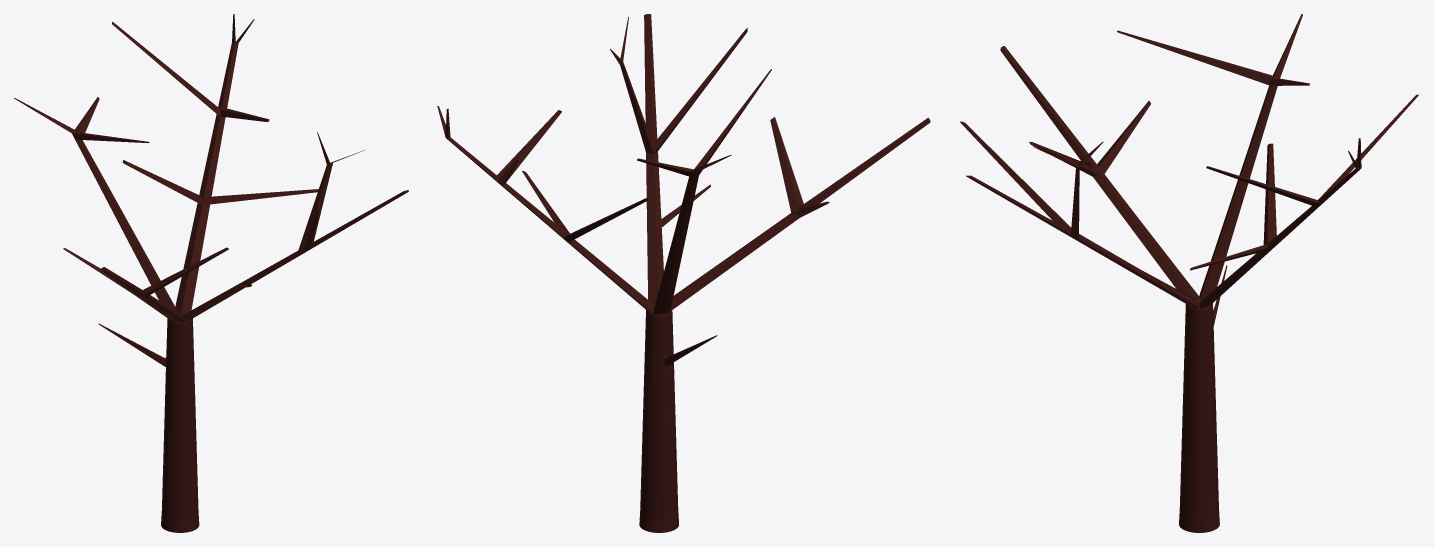
File: tree2.glb
3 renders of one model, left to right at view 1: azimuth 30°, elevation 25°; view 2: azimuth 150°, elevation 25°; view 3: azimuth 270°, elevation 25°, orthographic. The views are drawn at different scales.
Parts seen in each view (by area): view 1: Cylinder; view 2: Cylinder; view 3: Cylinder.
Boxes of the visible parts, box(x1,y1,x2,y2) form: Cylinder: box(14, 14, 408, 532); Cylinder: box(437, 14, 930, 532); Cylinder: box(960, 14, 1418, 532).
Size of the model in its own units: 6.39 by 8.32 by 7.59.
